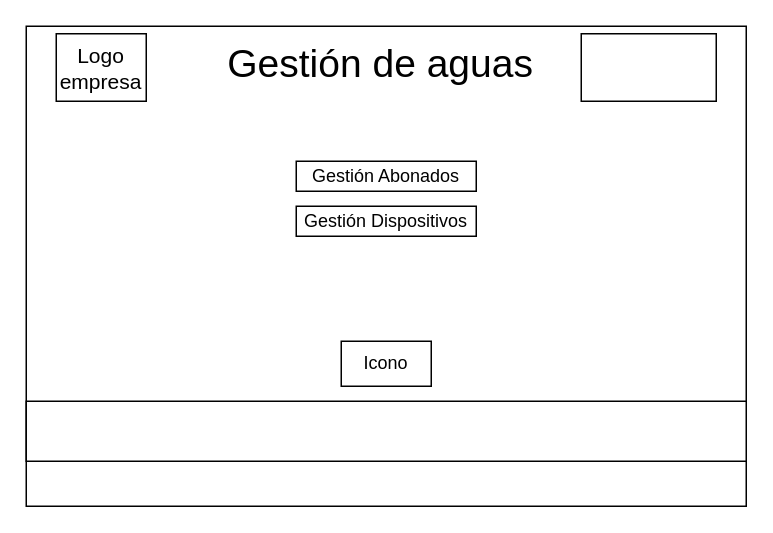
Image size: 773x533. Some labels were removed from this diagram. Here are the shapes that lost their labels. From the top down, the centre of each, then its label:
At (x=648, y=66): "Emblema del municipio".
At (x=385, y=430): "Datos del desarrollador".
